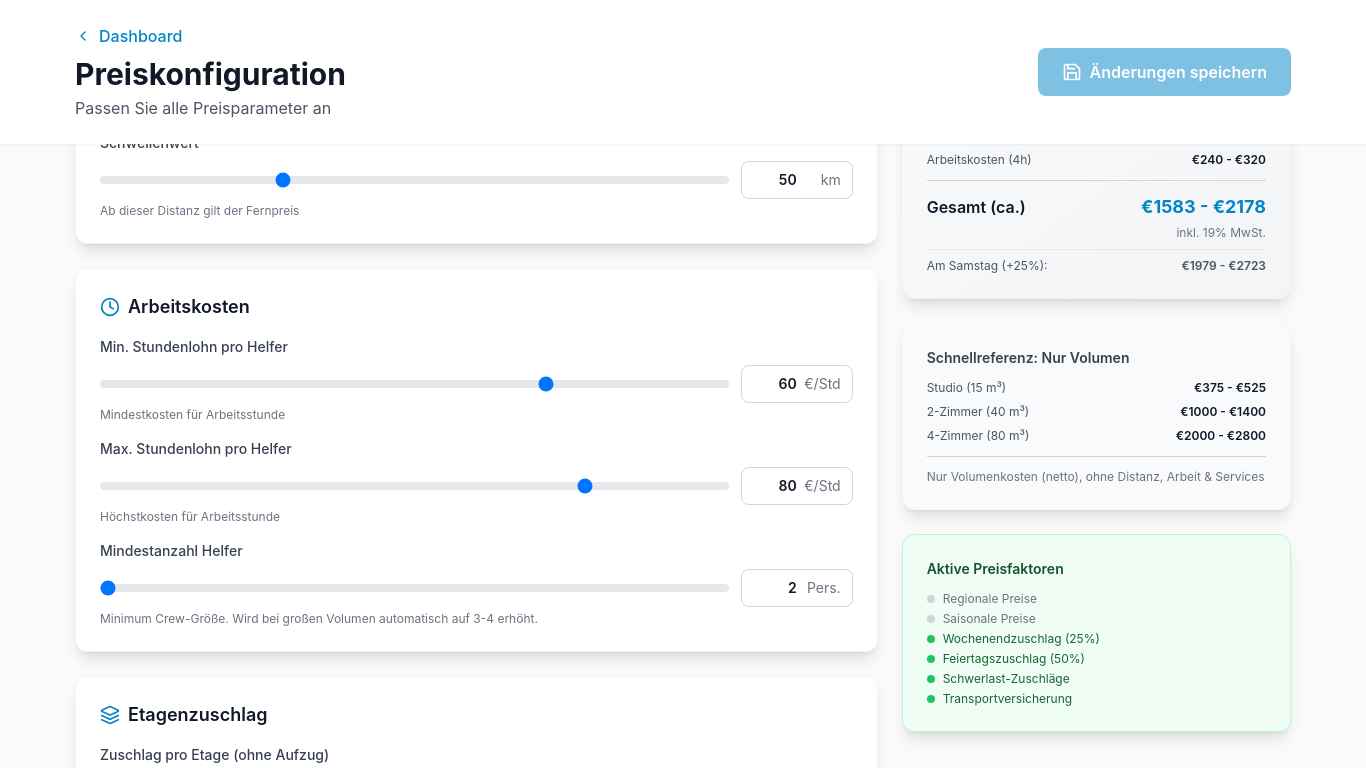
Test: Calculation updates on config change › example total updates when hourly_labor_min changes
(page scrolled)
Replace the text in the 2nd number field with "70" at (797, 384), box [741,365,853,403]
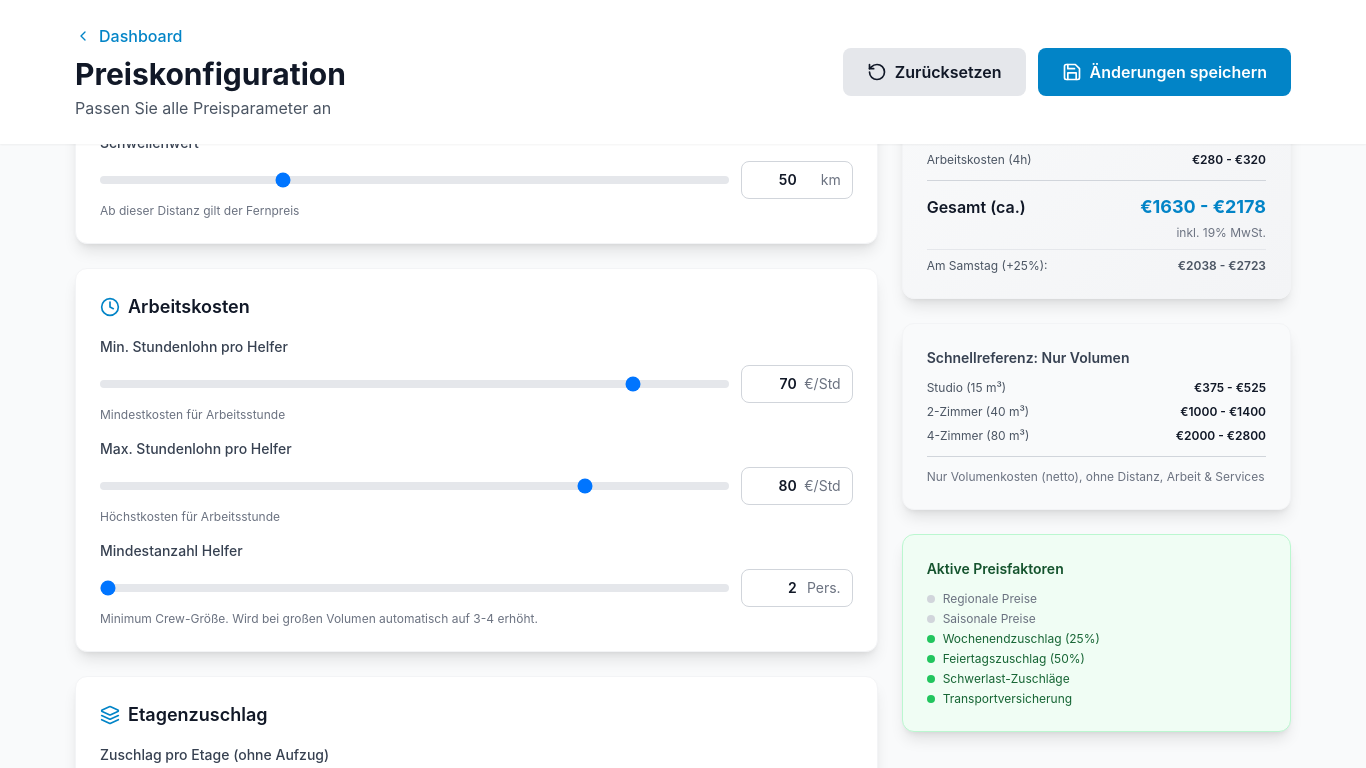
Now the text "Beispielrechnung" shows "€1630", box [902,19,1291,299]
